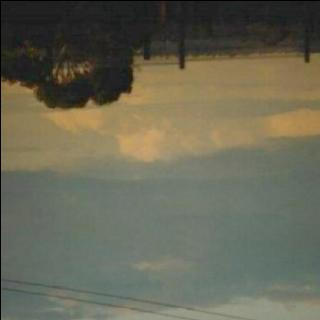Stratocumulus: (0, 105, 320, 320)
